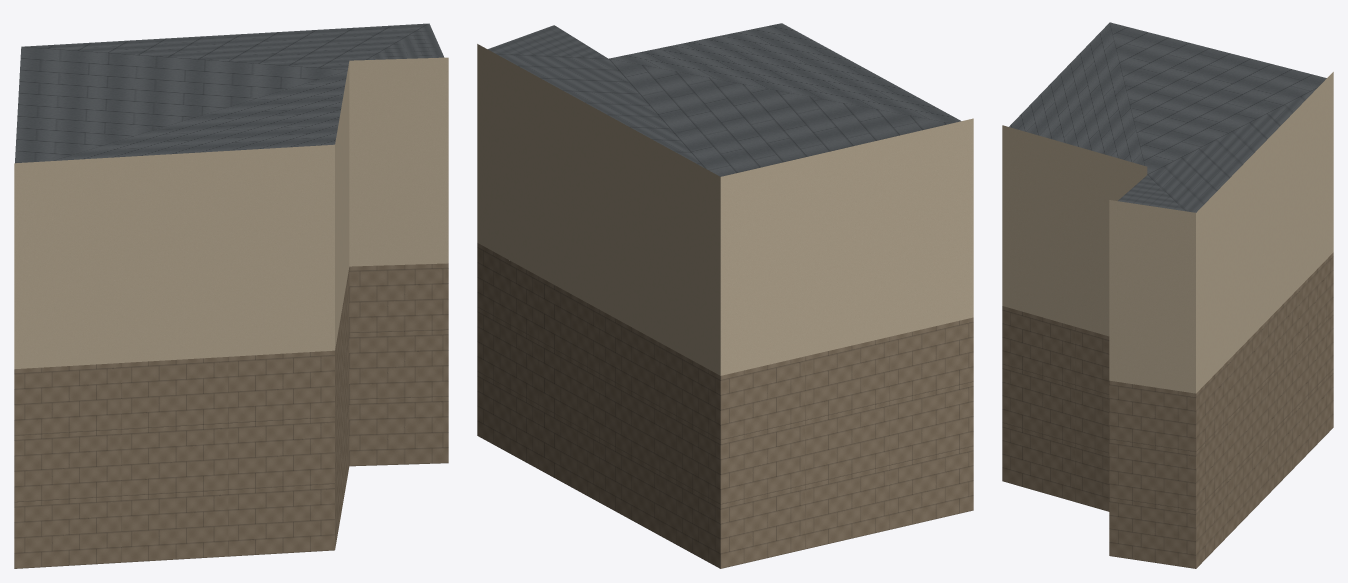
Rendered from bld_c44_47_184.gltf.
3 views of the same model, side by side, from view 1: azimuth 30°, elevation 25°; view 2: azimuth 150°, elevation 25°; view 3: azimuth 270°, elevation 25° (orthographic). The views are drawn at different scales.
Visible parts, largest first — view 1: bld_c44_47_184; view 2: bld_c44_47_184; view 3: bld_c44_47_184.
Part boxes in pixels (x1=…): bld_c44_47_184: x1=14, y1=23, x2=448, y2=568; bld_c44_47_184: x1=477, y1=23, x2=973, y2=568; bld_c44_47_184: x1=1002, y1=22, x2=1333, y2=568.
Size of the model in its own units: 12.31 by 10.28 by 8.66.
4 materials, 4 textured.
